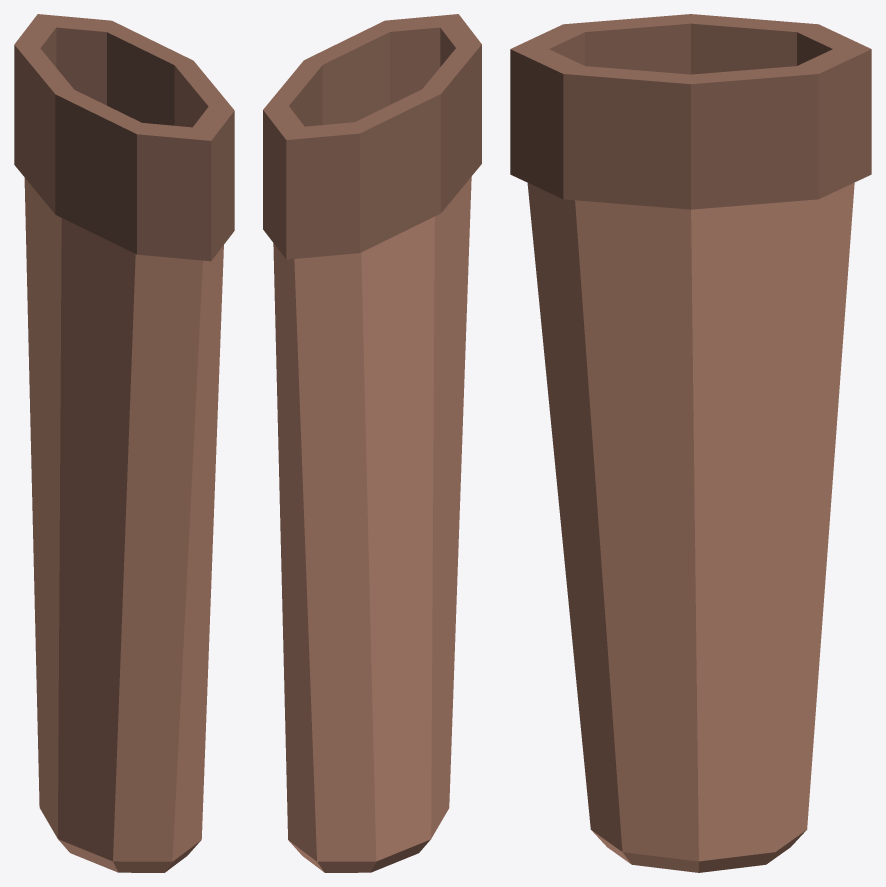
File: Quiver.fbx
3 renders of one model, left to right at view 1: azimuth 30°, elevation 25°; view 2: azimuth 150°, elevation 25°; view 3: azimuth 270°, elevation 25°, orthographic. The views are drawn at different scales.
Visible parts, largest first — view 1: Quiver; view 2: Quiver; view 3: Quiver.
Part boxes in pixels (left/top/right/bottom): Quiver: left=14, top=14, right=234, bottom=872; Quiver: left=263, top=14, right=481, bottom=872; Quiver: left=510, top=14, right=871, bottom=872.
Size of the model in its own units: 15.12 by 80.11 by 32.88.
